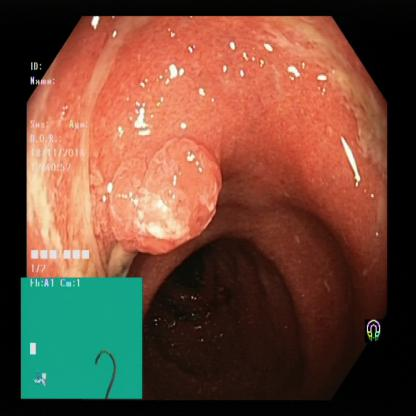Labels: (25, 55, 93, 275), (22, 278, 141, 398), (359, 306, 390, 349)
Polyps: (103, 140, 222, 255)
